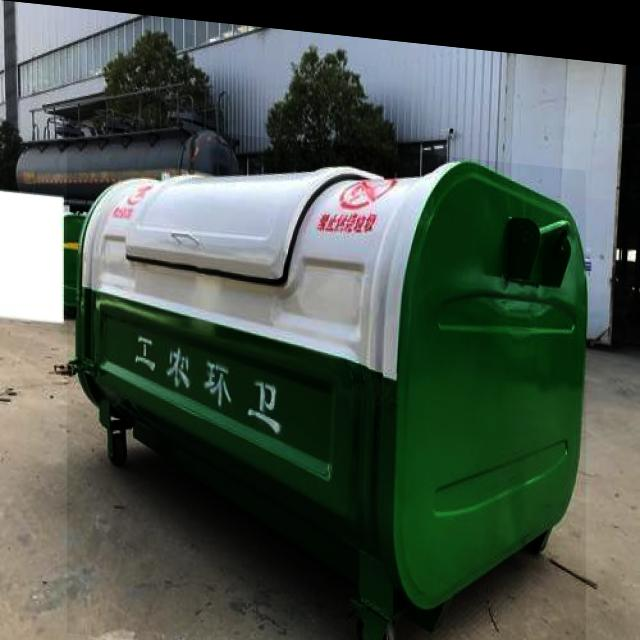garbage_bin: (67, 115, 586, 640)
